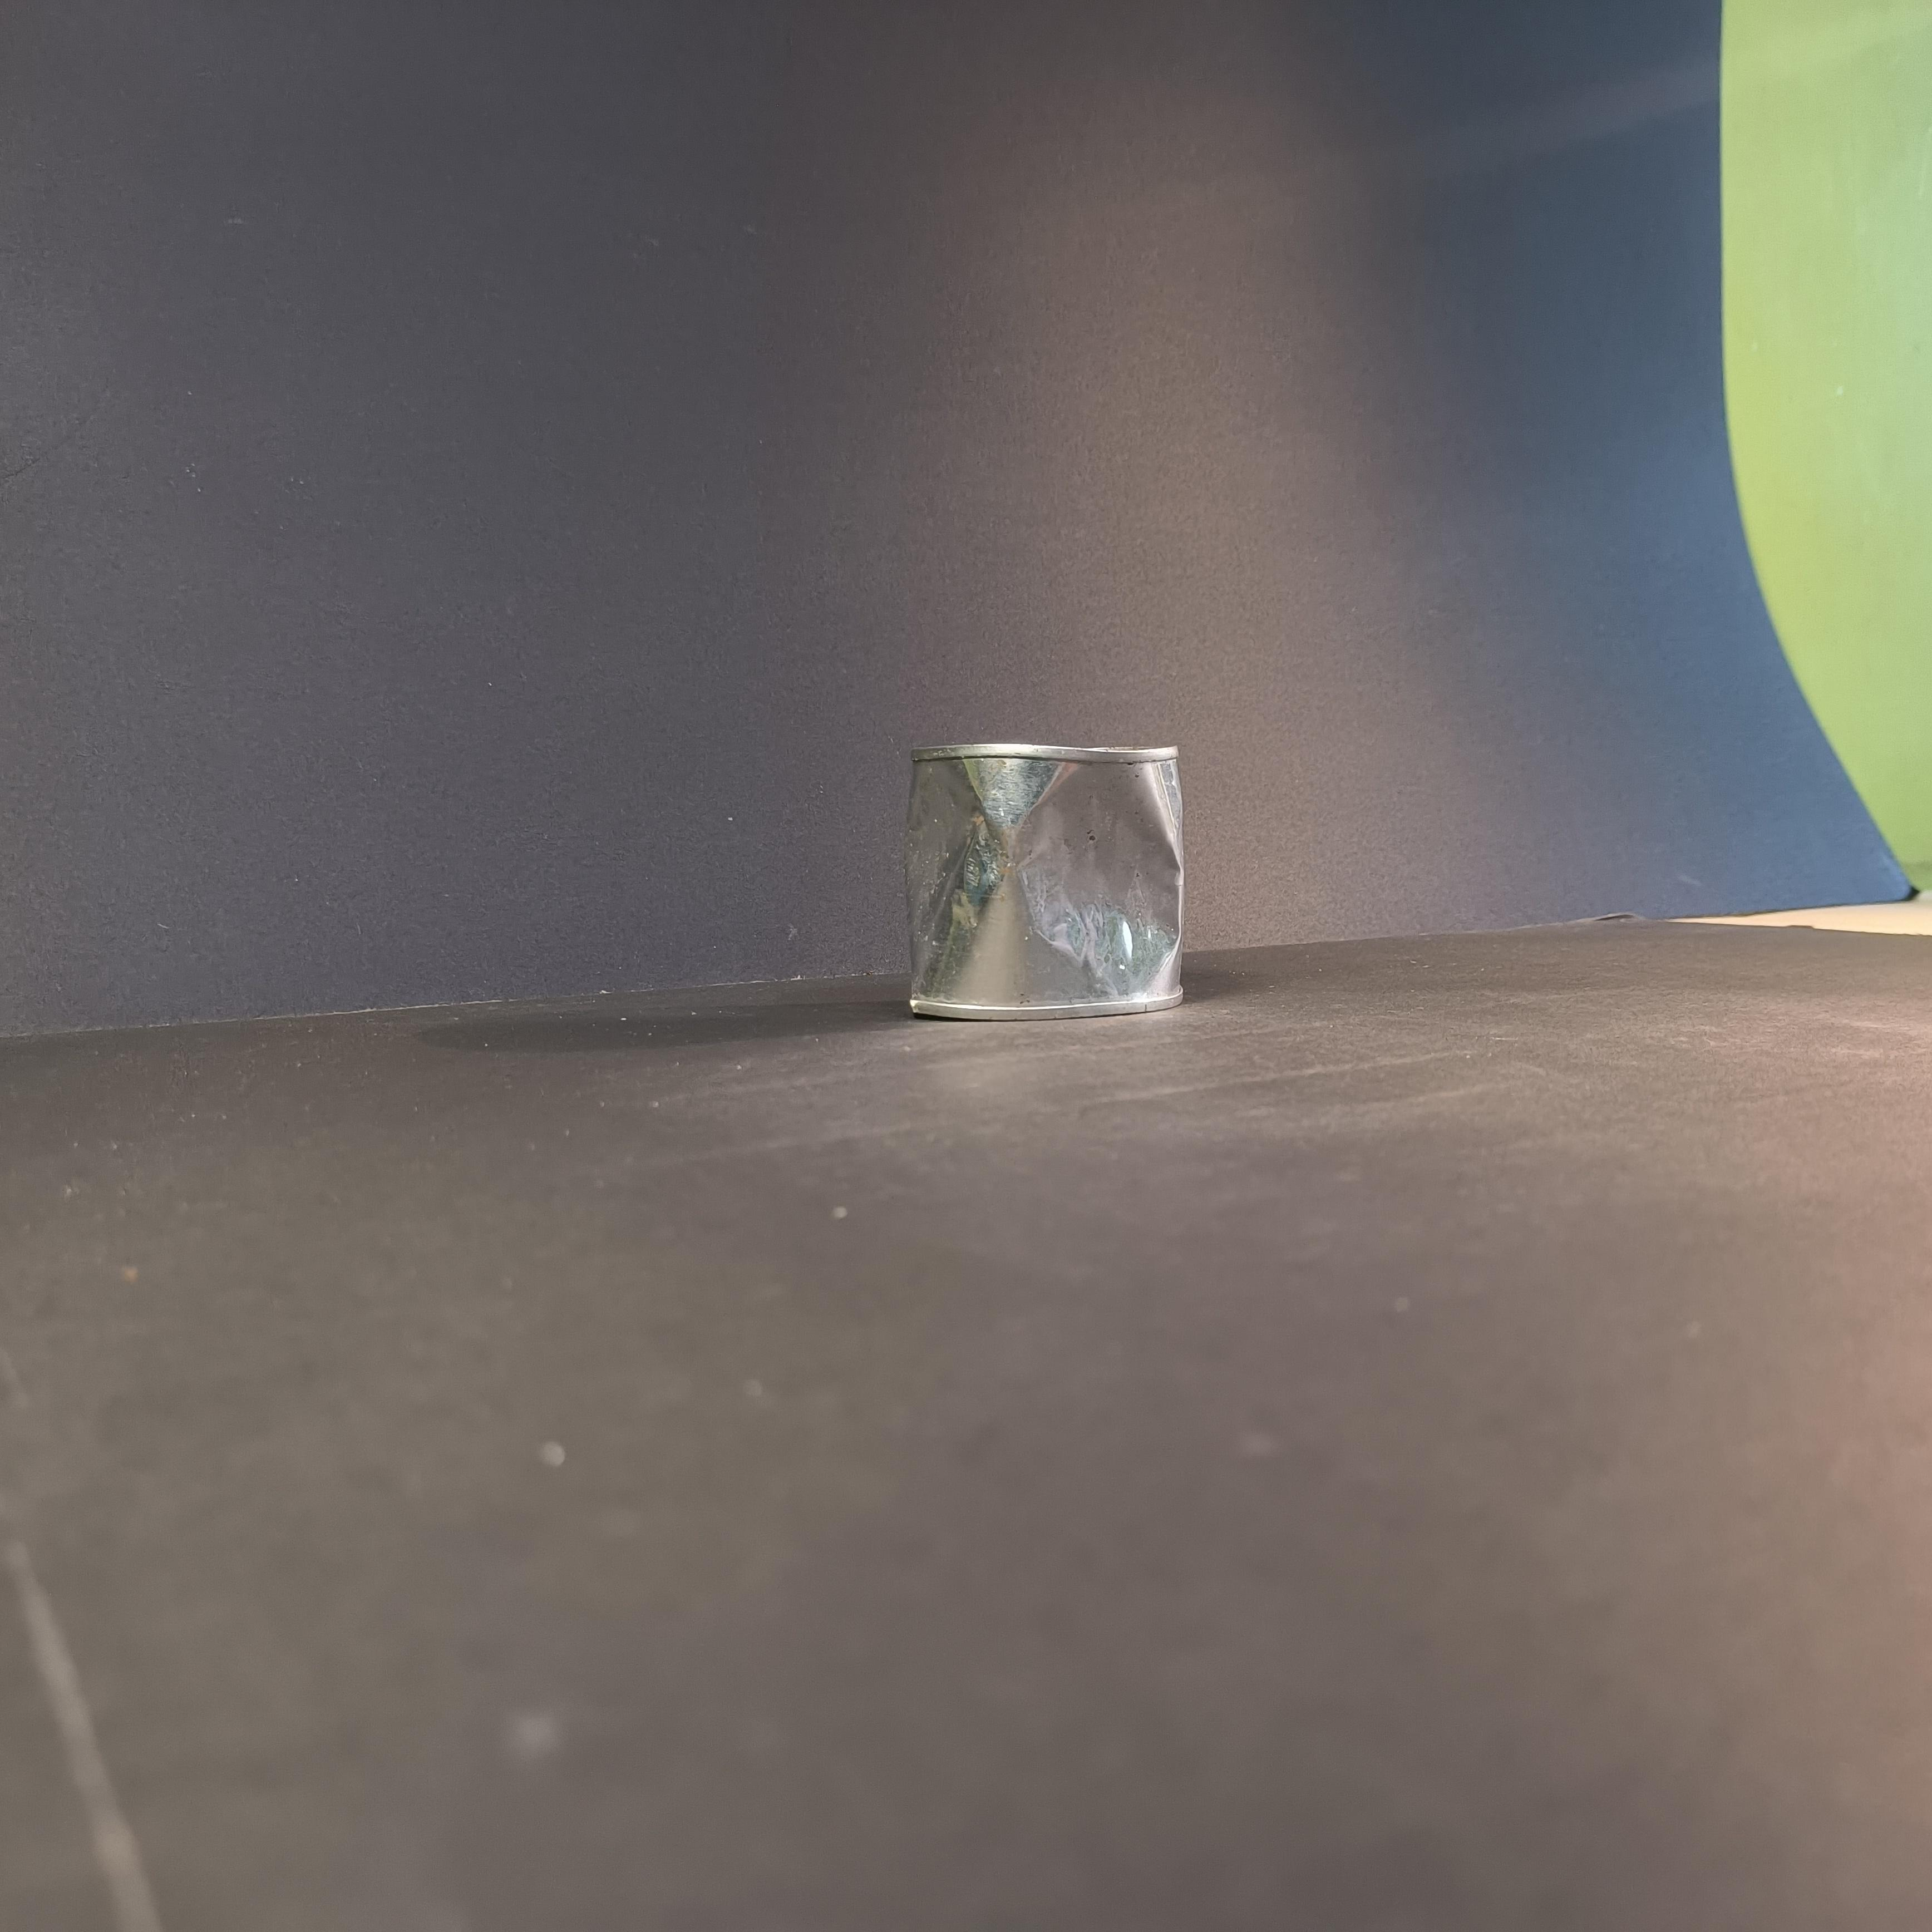Dented: (885, 721, 1199, 1024)
